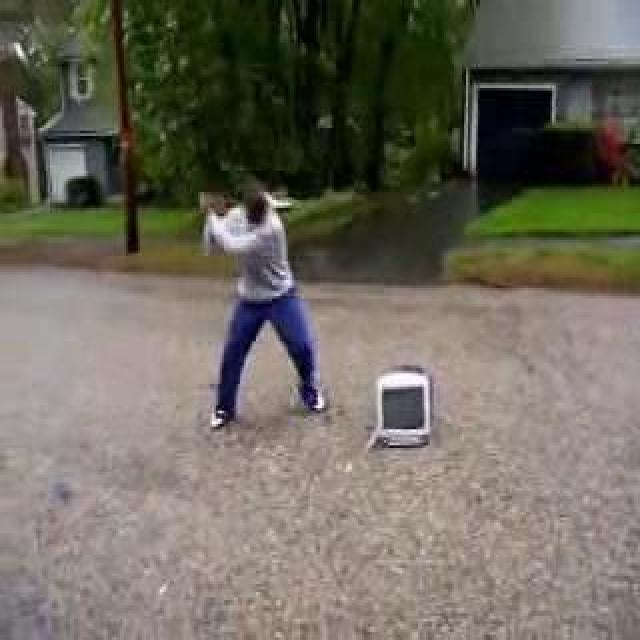fight: (169, 189, 463, 544)
